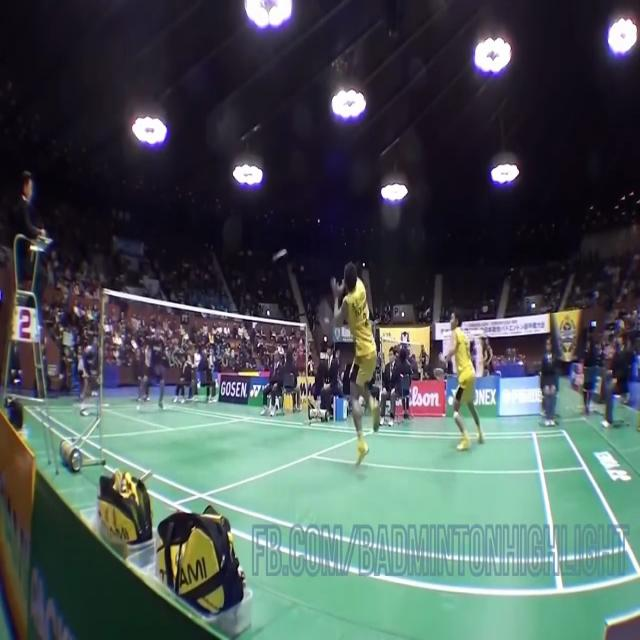shuttlecock: (272, 248, 287, 262)
